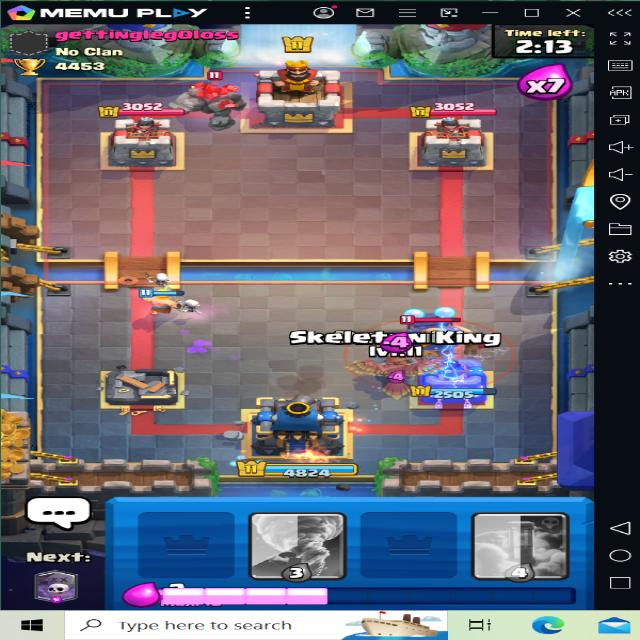electro-giant: (386, 307, 491, 367)
golem: (166, 66, 264, 126)
